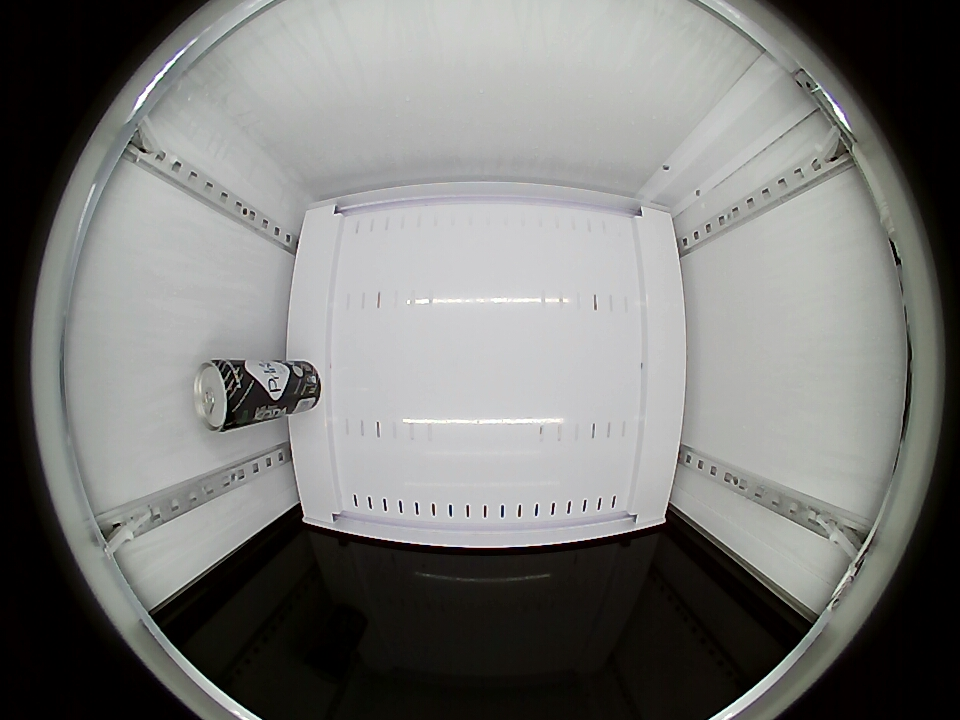qingdaowangzi-1: (193, 359, 253, 433)
